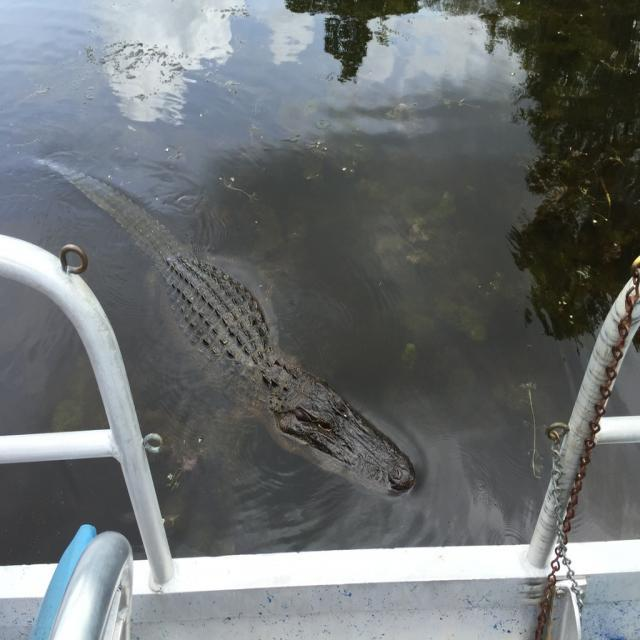crocodile: (51, 170, 416, 498)
